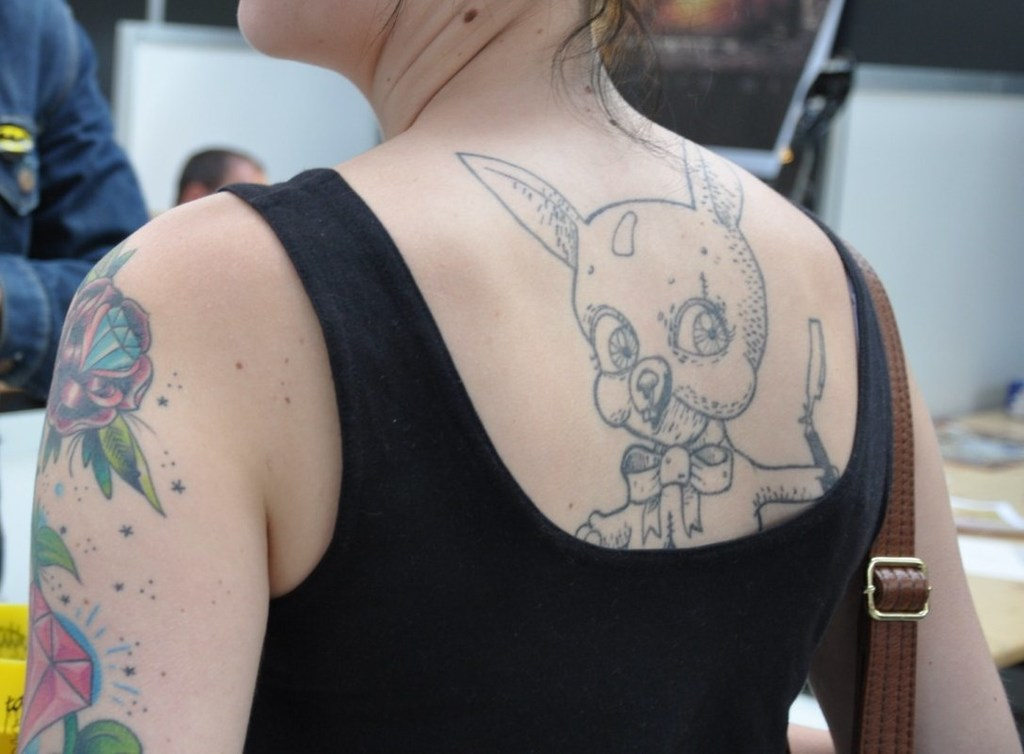Person: (0, 0, 1024, 753), (0, 0, 151, 407)
